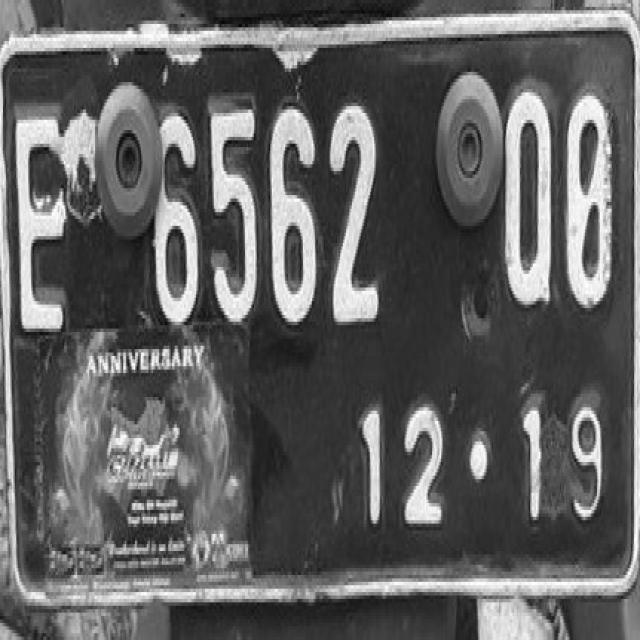license-plat: (0, 19, 640, 610)
